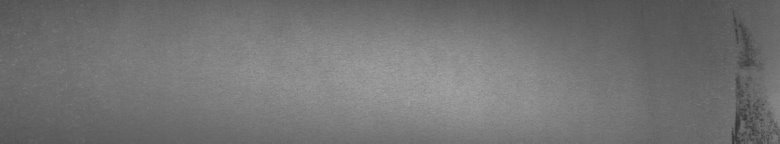ka: (728, 17, 776, 136)
